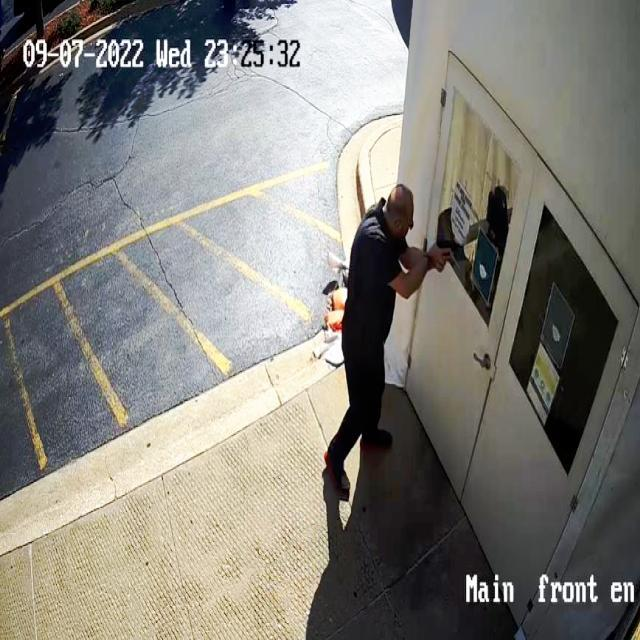Gun: (427, 232, 468, 260)
